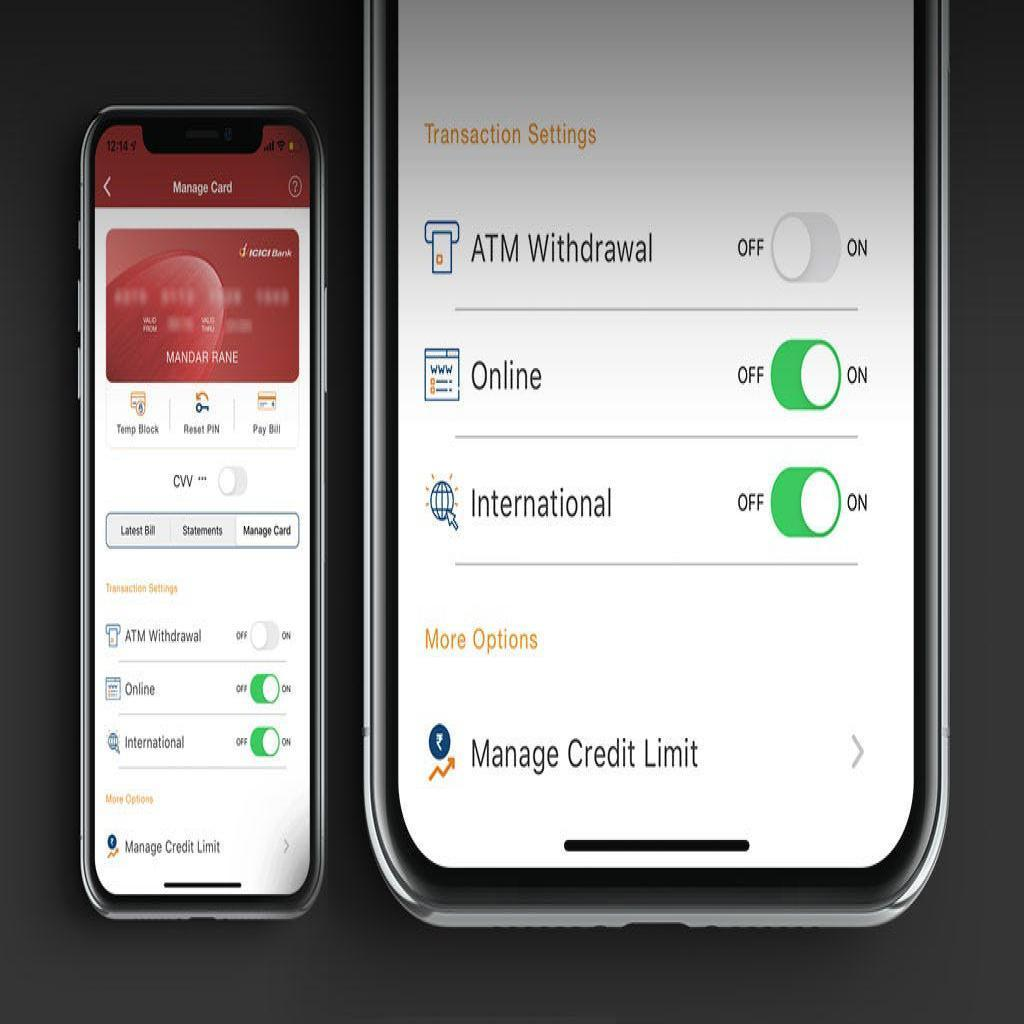switch: (769, 209, 847, 289), (770, 467, 845, 543), (770, 337, 843, 415), (217, 466, 250, 497), (251, 621, 280, 653), (250, 674, 280, 704), (251, 727, 280, 757)
